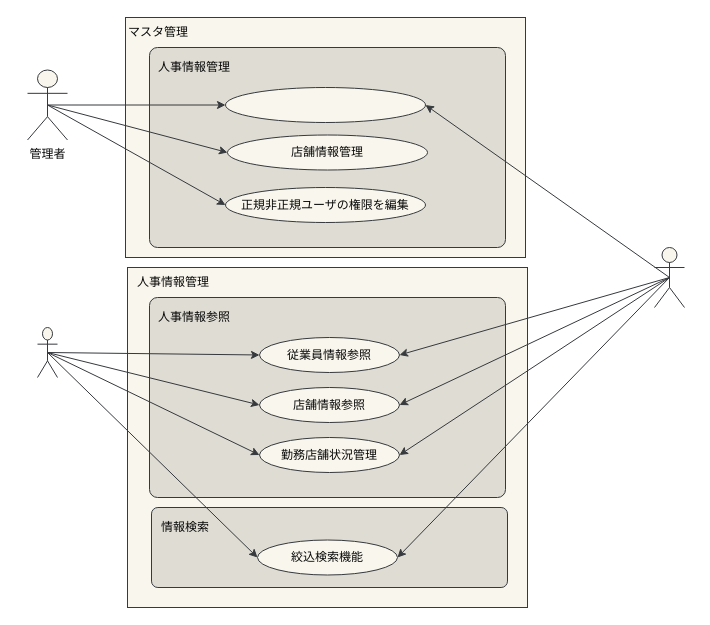
Some shapes in this 710 by 625 pixel diagram are drawn without their labels. Here are the shapes that lost their labels. From the top down, the centre of each, then its label:
point (325, 104): 従業員情報管理
point (669, 277): 正規社員
point (47, 352): 非正規社員
